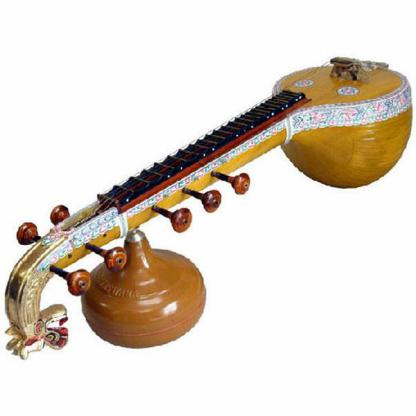Veena: (44, 51, 416, 258)
